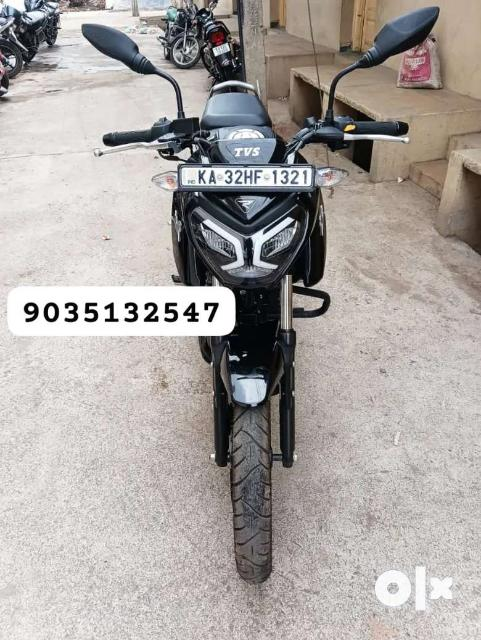Indian_Number_Plate: (178, 164, 315, 190)
